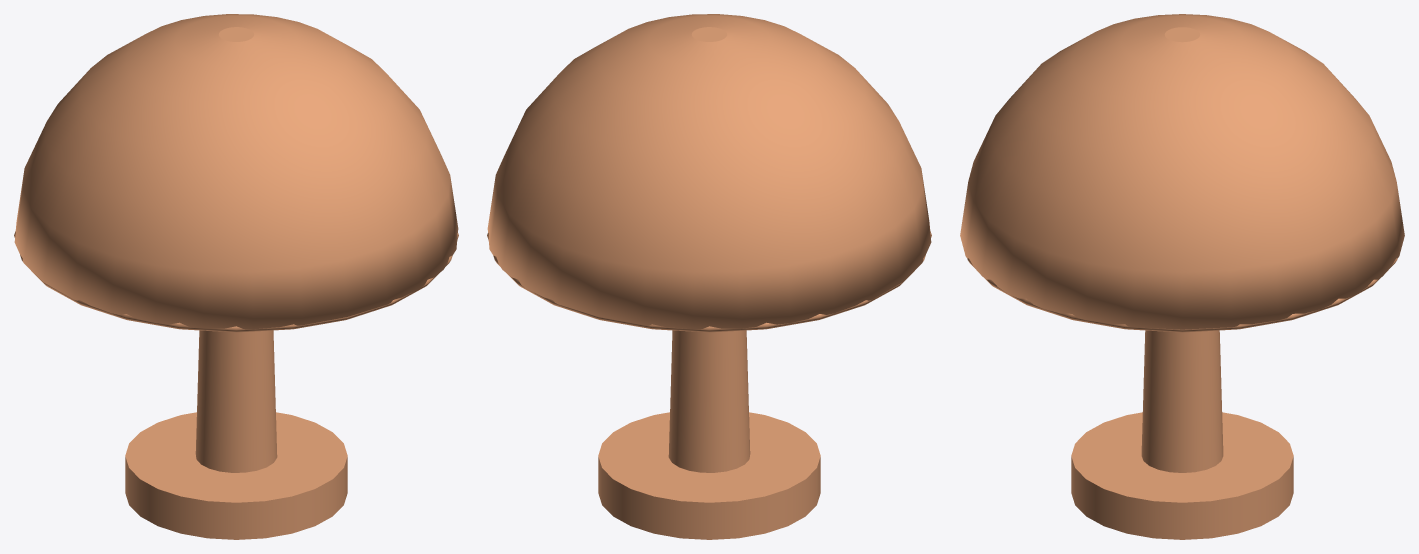
The model's file is lamp_mushroom.glb.
3 renders of one model, left to right at view 1: azimuth 30°, elevation 25°; view 2: azimuth 150°, elevation 25°; view 3: azimuth 270°, elevation 25°, orthographic.
Visible parts, largest first — view 1: Mushroom_Lamp_Open_Dome, Mushroom_Lamp_Foot, Mushroom_Lamp_Stem, Mushroom_Lamp_Shade_Lip; view 2: Mushroom_Lamp_Open_Dome, Mushroom_Lamp_Foot, Mushroom_Lamp_Stem, Mushroom_Lamp_Shade_Lip; view 3: Mushroom_Lamp_Open_Dome, Mushroom_Lamp_Foot, Mushroom_Lamp_Stem, Mushroom_Lamp_Shade_Lip.
Boxes of the visible parts, x1,y1,x2,y2 form: Mushroom_Lamp_Open_Dome: (14,14,458,329); Mushroom_Lamp_Foot: (125,412,347,539); Mushroom_Lamp_Stem: (195,330,277,472); Mushroom_Lamp_Shade_Lip: (14,231,458,332); Mushroom_Lamp_Open_Dome: (487,14,931,329); Mushroom_Lamp_Foot: (598,412,820,539); Mushroom_Lamp_Stem: (668,330,750,472); Mushroom_Lamp_Shade_Lip: (487,231,931,332); Mushroom_Lamp_Open_Dome: (960,14,1404,329); Mushroom_Lamp_Foot: (1071,412,1293,539); Mushroom_Lamp_Stem: (1141,330,1223,472); Mushroom_Lamp_Shade_Lip: (967,258,1397,332).
Size of the model in its own units: 0.52 by 0.5912 by 0.52.
